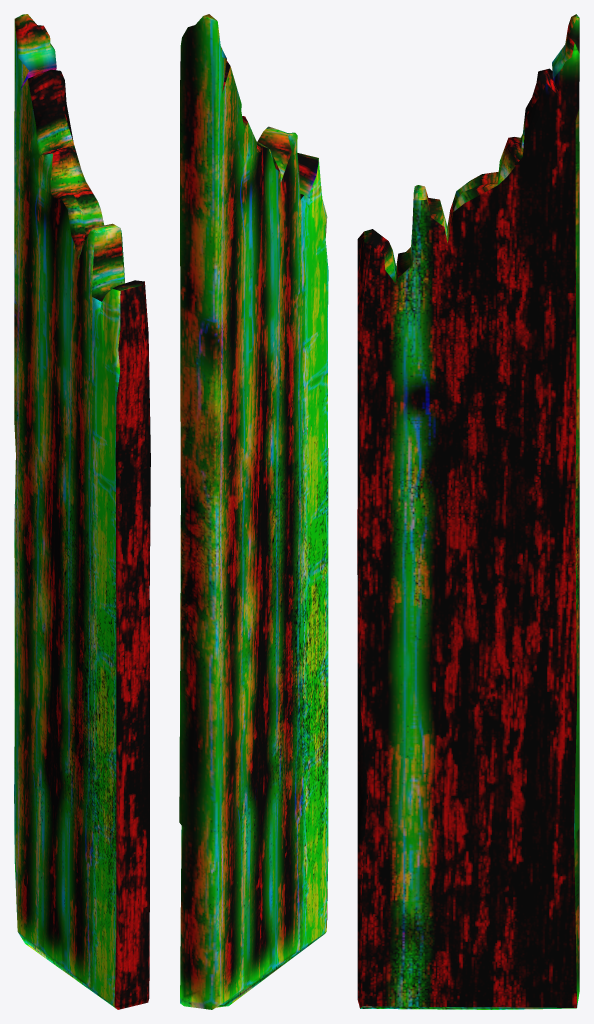
File: SM_BrokenPlanks_3.fbx
The picture shows the model from 3 angles, left to right: view 1: azimuth 30°, elevation 25°; view 2: azimuth 150°, elevation 25°; view 3: azimuth 270°, elevation 25°; orthographic projection. The views are drawn at different scales.
Visible parts, largest first — view 1: SM_BrokenPlanks_3_LOD0; view 2: SM_BrokenPlanks_3_LOD0; view 3: SM_BrokenPlanks_3_LOD0.
Part boxes in pixels (<box>): SM_BrokenPlanks_3_LOD0: <box>14,14,150,1009</box>; SM_BrokenPlanks_3_LOD0: <box>179,14,328,1009</box>; SM_BrokenPlanks_3_LOD0: <box>357,14,579,1009</box>.
Bounding box in the file's own units: 7.38 × 38.07 × 185.
